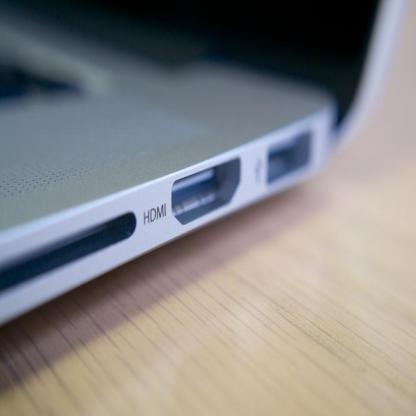board: (0, 0, 402, 324)
